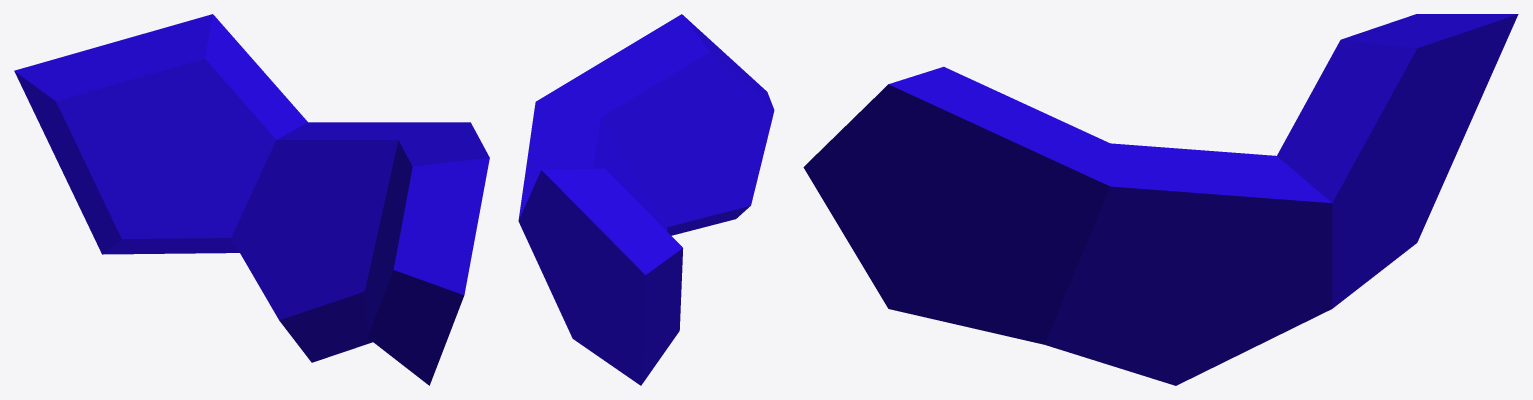
The model's file is piece4.glb.
The picture shows the model from 3 angles, left to right: view 1: azimuth 30°, elevation 25°; view 2: azimuth 150°, elevation 25°; view 3: azimuth 270°, elevation 25°; orthographic projection. The views are drawn at different scales.
Visible parts, largest first — view 1: piece_A_4; view 2: piece_A_4; view 3: piece_A_4.
Boxes of the visible parts, bbox=[...] form: piece_A_4: bbox=[14, 14, 489, 385]; piece_A_4: bbox=[518, 14, 774, 385]; piece_A_4: bbox=[803, 14, 1518, 385].
Bounding box in the file's own units: 2.29 × 2.09 × 4.02.
